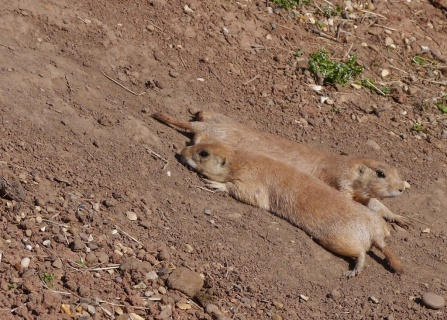Squirrel: (179, 140, 416, 278), (149, 113, 416, 225)
